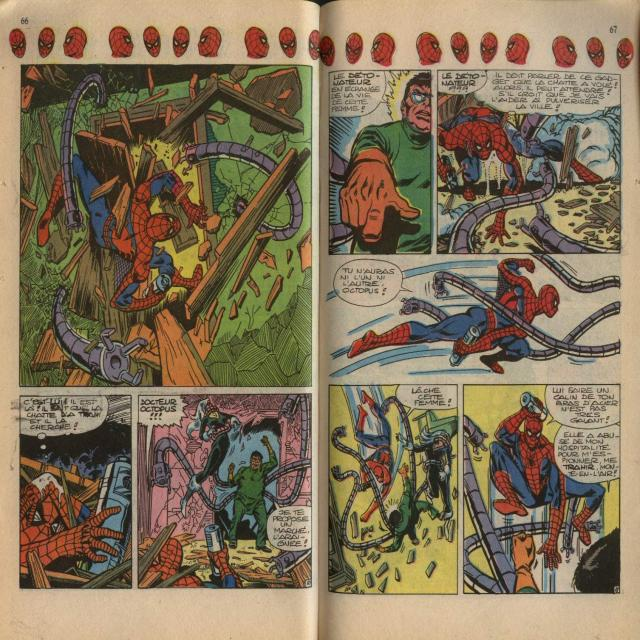comic_panel: (16, 61, 313, 390), (328, 255, 622, 384), (136, 392, 314, 590), (436, 69, 622, 257), (463, 384, 619, 596), (326, 383, 458, 596), (17, 394, 134, 592), (328, 68, 432, 258), (437, 70, 618, 115)
